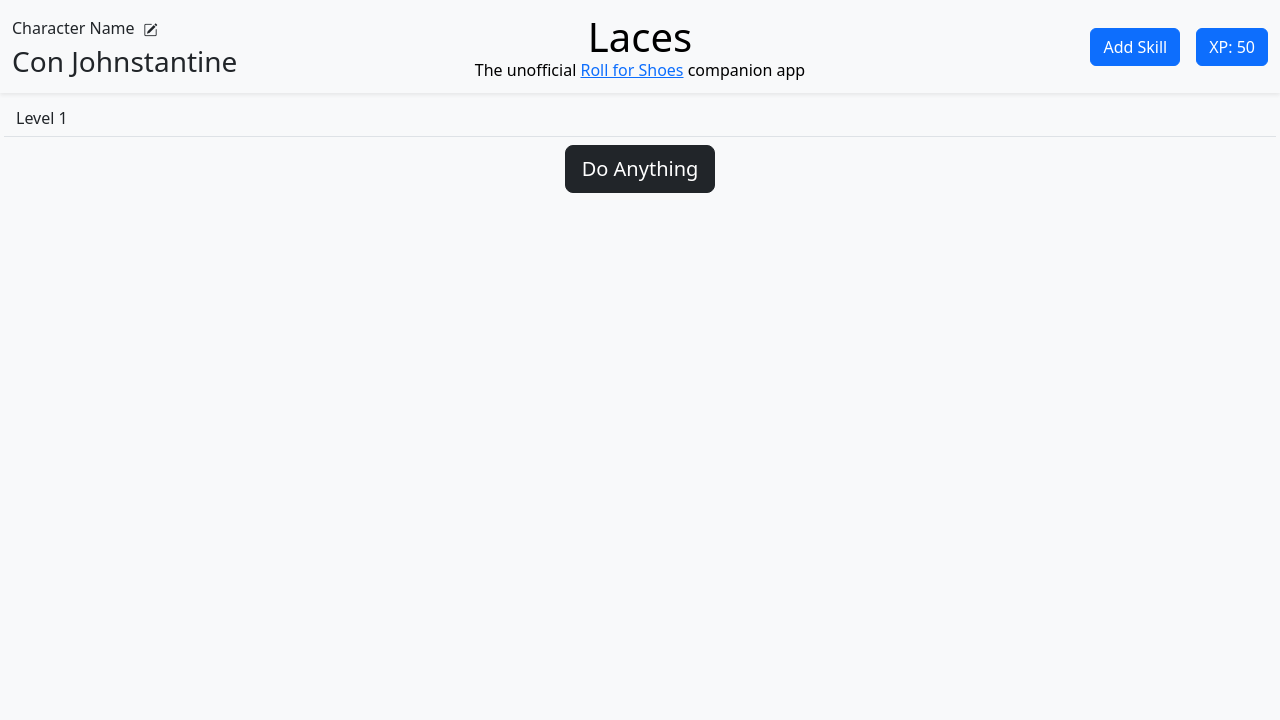
Test: App › render the DoSkillModal
The width and height of the screenshot is (1280, 720).
Click the button "Do Anything": (640, 169) [565,145,715,193]
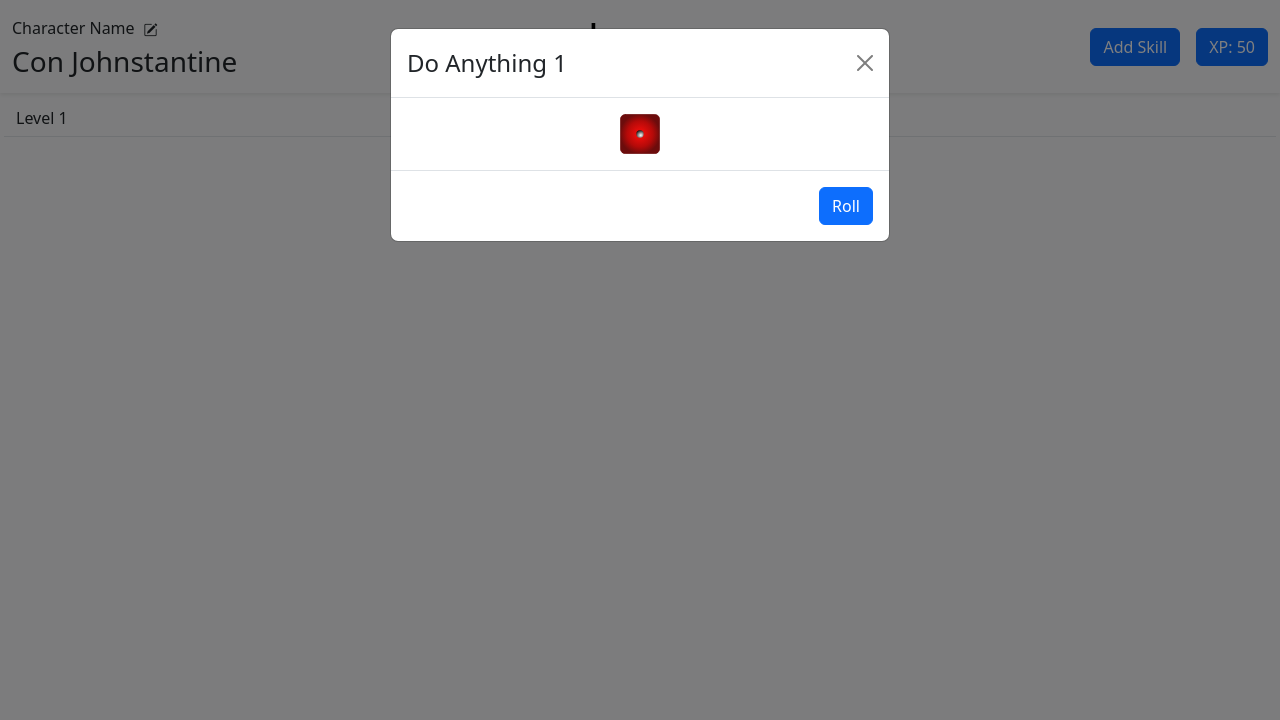
Expected: the dialog "Do Anything 1" is shown, [390,28,890,242]
Click the button named "Close": (865, 63) [849,47,881,79]
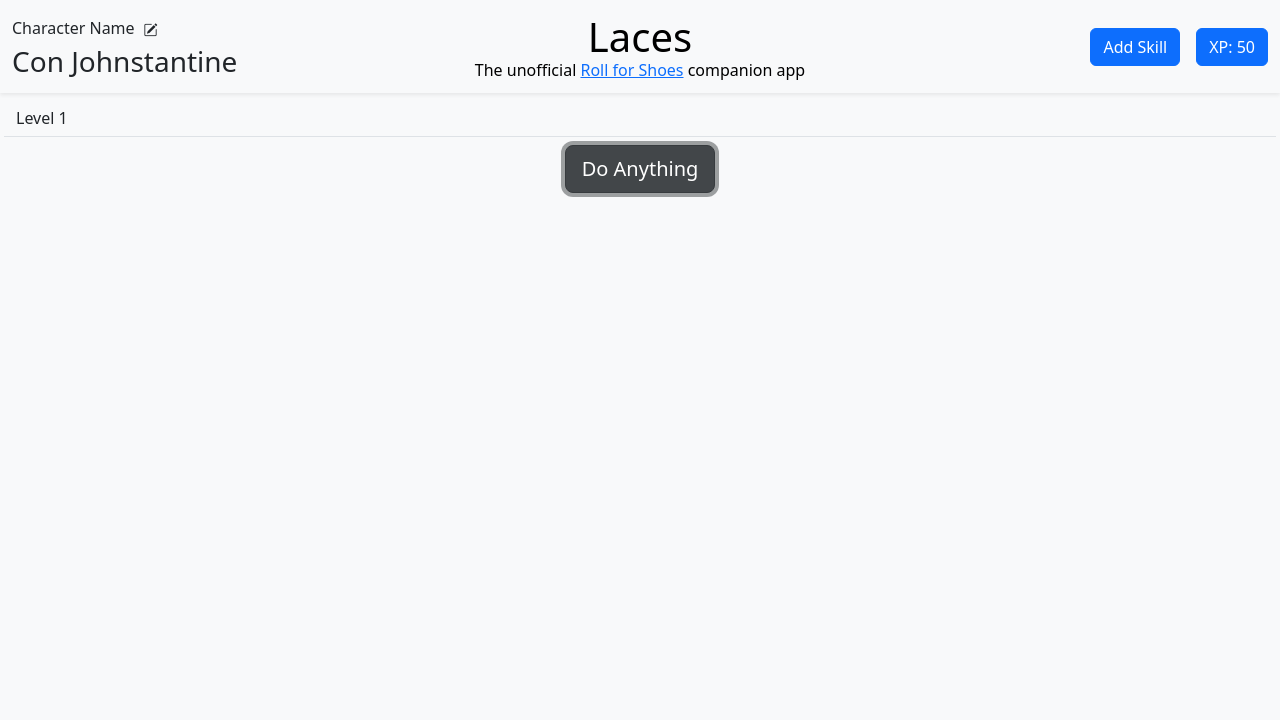
Expected: the text "Do Anything 1" is gone
